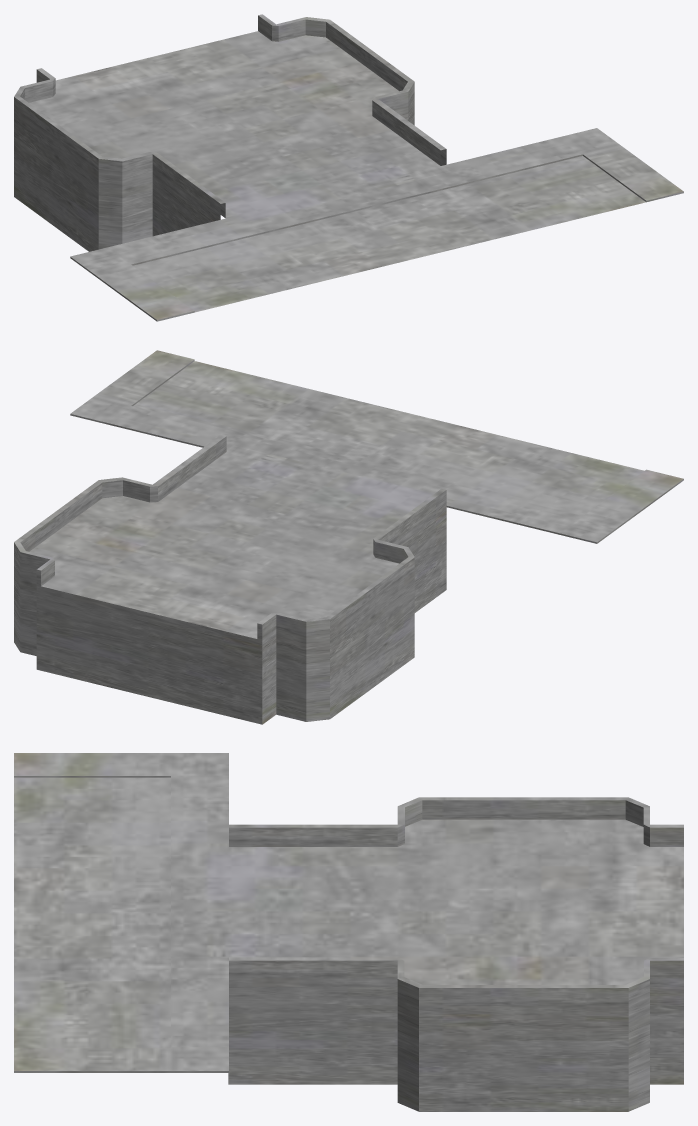
File: Entrance.FBX
3 renders of one model, top to bottom at view 1: azimuth 30°, elevation 25°; view 2: azimuth 150°, elevation 25°; view 3: azimuth 270°, elevation 25°, orthographic. The views are drawn at different scales.
Bounding box in the file's own units: 34.99 × 6.36 × 31.17.
Materials: 1 (1 with a texture image).
